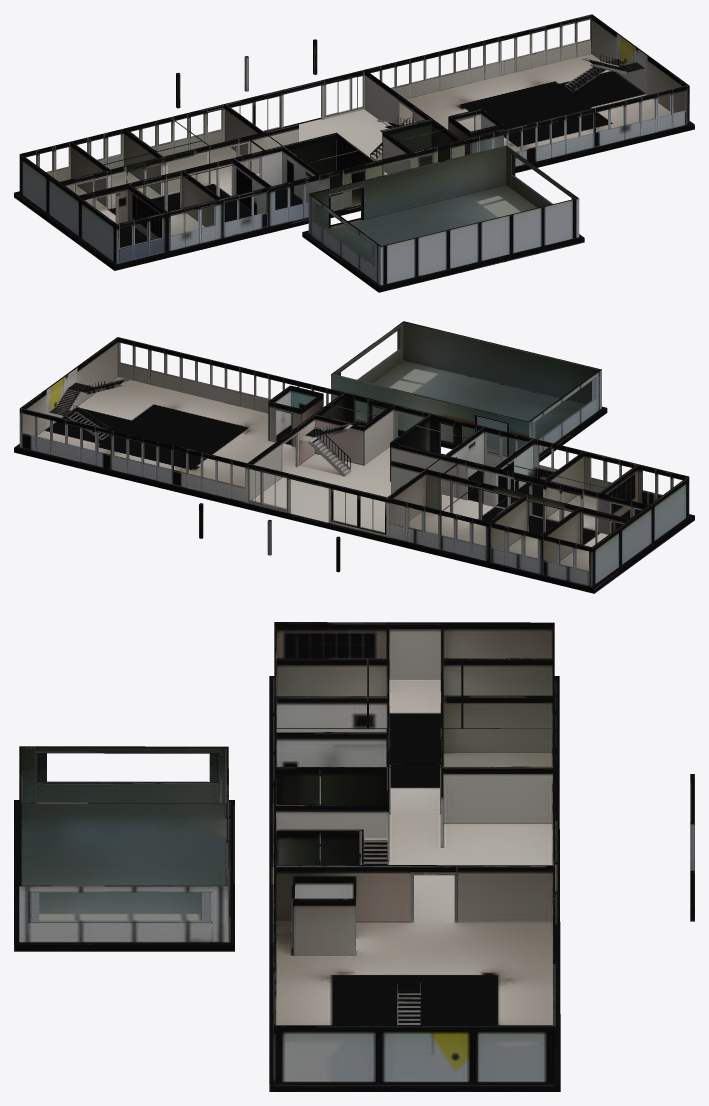
The model's file is world_shell0.glb.
3 views of the same model, one above another, from view 1: azimuth 30°, elevation 25°; view 2: azimuth 150°, elevation 25°; view 3: azimuth 270°, elevation 25° (orthographic). The views are drawn at different scales.
Parts seen in each view (by area): view 1: W_shell0; view 2: W_shell0; view 3: W_shell0.
Part boxes in pixels (left/top/right/bottom): W_shell0: left=14, top=14, right=694, bottom=292; W_shell0: left=14, top=321, right=694, bottom=593; W_shell0: left=14, top=622, right=694, bottom=1091.
Size of the model in its own units: 38.1 by 2.92 by 26.81.
1 material, 1 textured.
